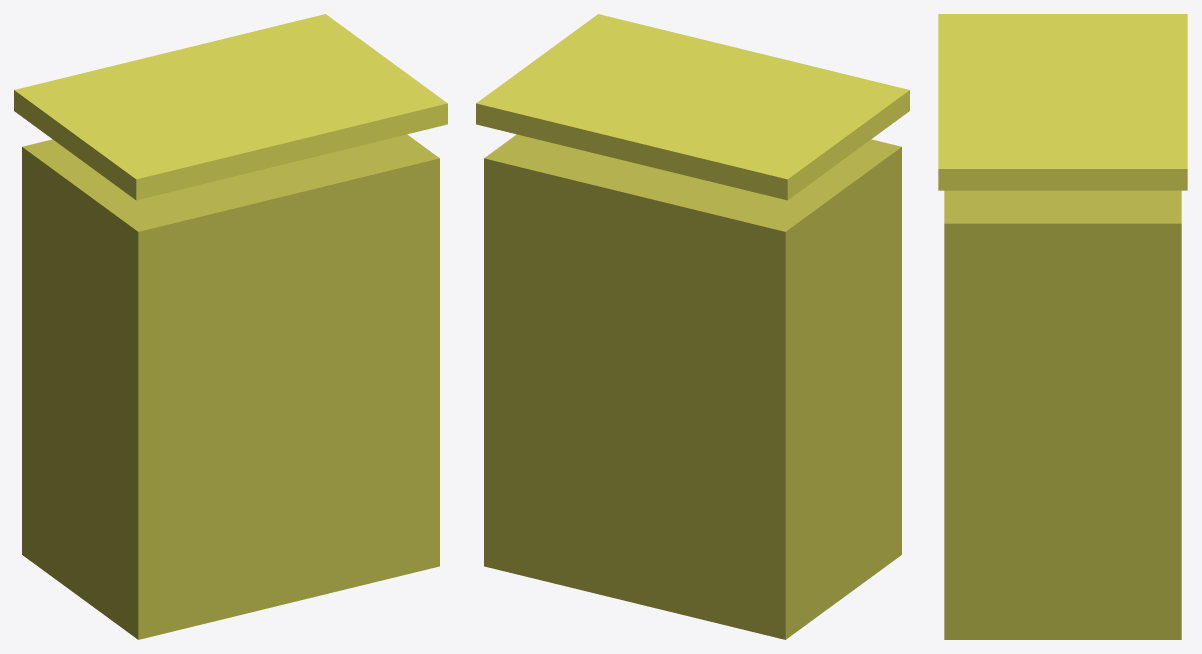
The model's file is eteks-kitchenuppercabinet.glb.
3 renders of one model, left to right at view 1: azimuth 30°, elevation 25°; view 2: azimuth 150°, elevation 25°; view 3: azimuth 270°, elevation 25°, orthographic. The views are drawn at different scales.
Size of the model in its own units: 62 by 88.2 by 42.1.
